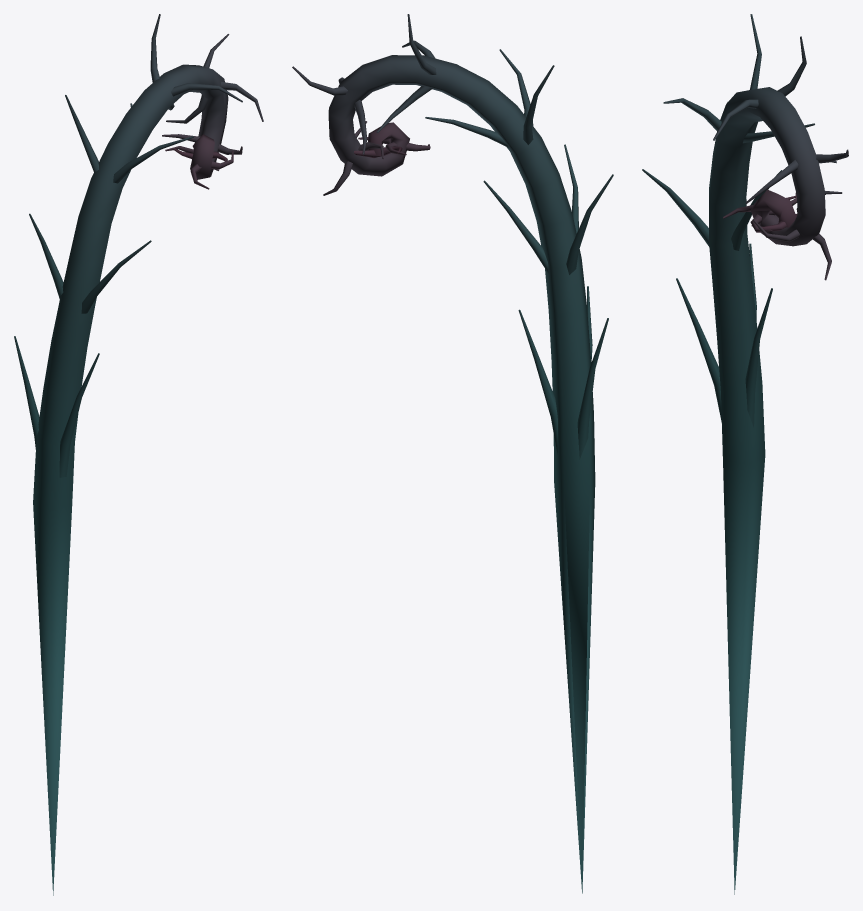
File: plants-bushes-twigs-thorny-tendril_v4.glb
3 views of the same model, side by side, from view 1: azimuth 30°, elevation 25°; view 2: azimuth 150°, elevation 25°; view 3: azimuth 270°, elevation 25° (orthographic). The views are drawn at different scales.
Parts seen in each view (by area): view 1: Thorny Tendril_v4; view 2: Thorny Tendril_v4; view 3: Thorny Tendril_v4.
Part boxes in pixels (box(x1,y1,x2,y2)): Thorny Tendril_v4: box(14, 14, 263, 895); Thorny Tendril_v4: box(292, 14, 613, 893); Thorny Tendril_v4: box(642, 14, 848, 894).
Size of the model in its own units: 0.1632 by 0.5 by 0.1002.
